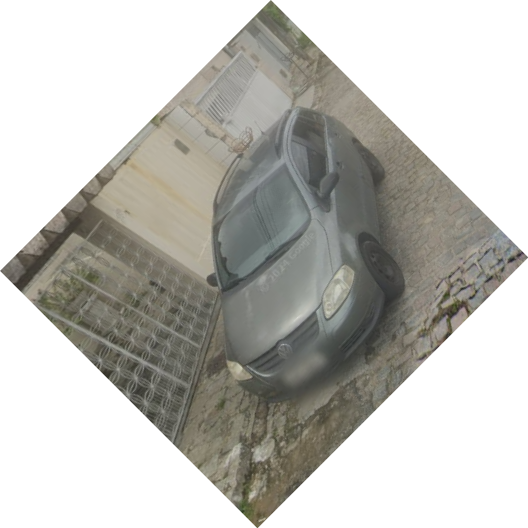car: (206, 105, 406, 407)
